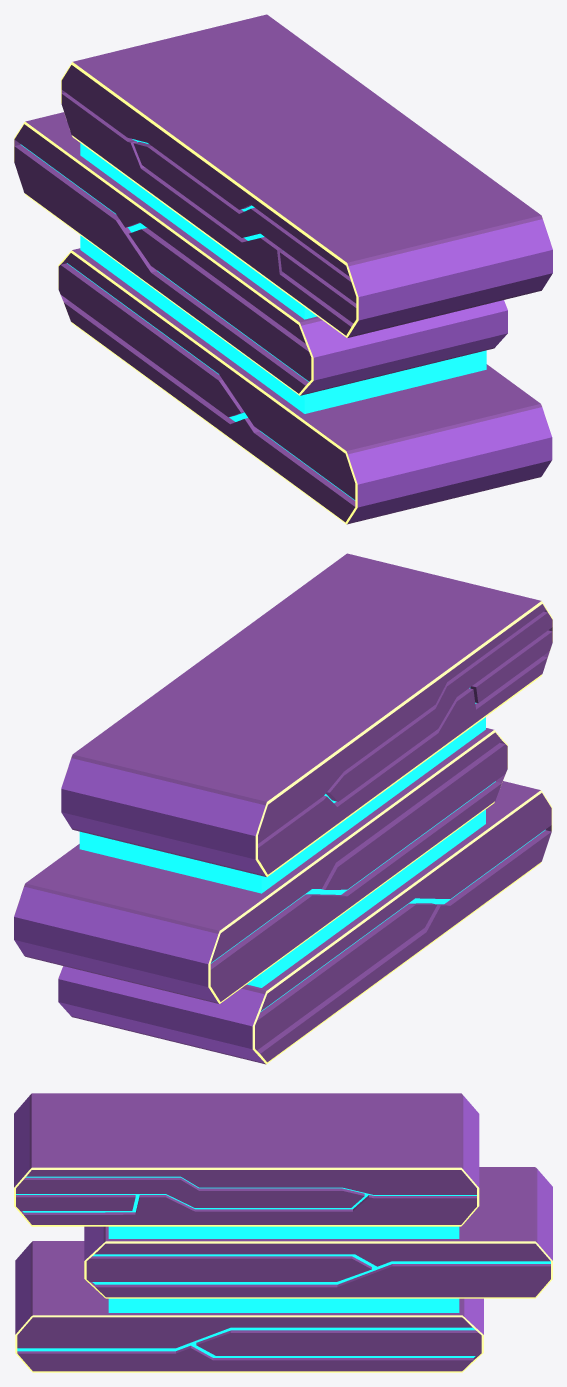
The model's file is dresser_tier21.fbx.
3 renders of one model, top to bottom at view 1: azimuth 30°, elevation 25°; view 2: azimuth 150°, elevation 25°; view 3: azimuth 270°, elevation 25°, orthographic. The views are drawn at different scales.
Visible parts, largest first — view 1: Cube.006, Cube.003, Cube.005, Cube.001; view 2: Cube.006, Cube.005, Cube.003, Cube.001; view 3: Cube.006, Cube.005, Cube.003, Cube.001.
Boxes of the visible parts, x1,y1,x2,y2 form: Cube.006: (61, 14, 552, 338); Cube.003: (58, 248, 552, 524); Cube.005: (14, 112, 507, 395); Cube.001: (80, 143, 486, 413); Cube.006: (61, 553, 552, 876); Cube.005: (14, 728, 507, 1003); Cube.003: (58, 781, 552, 1064); Cube.001: (79, 717, 485, 987); Cube.006: (14, 1093, 479, 1226); Cube.005: (84, 1167, 552, 1298); Cube.003: (15, 1241, 483, 1372); Cube.001: (108, 1226, 459, 1312).
Bounding box in the file's own units: 88.53 × 113 × 269.
